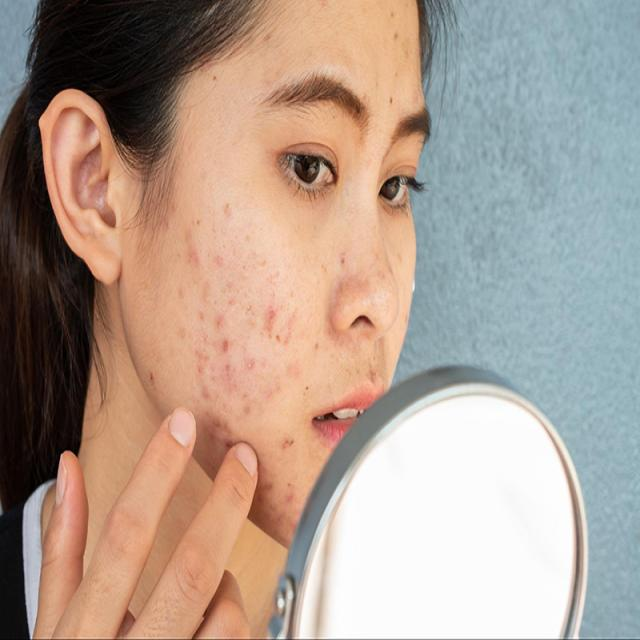Acne: (188, 183, 292, 442)
